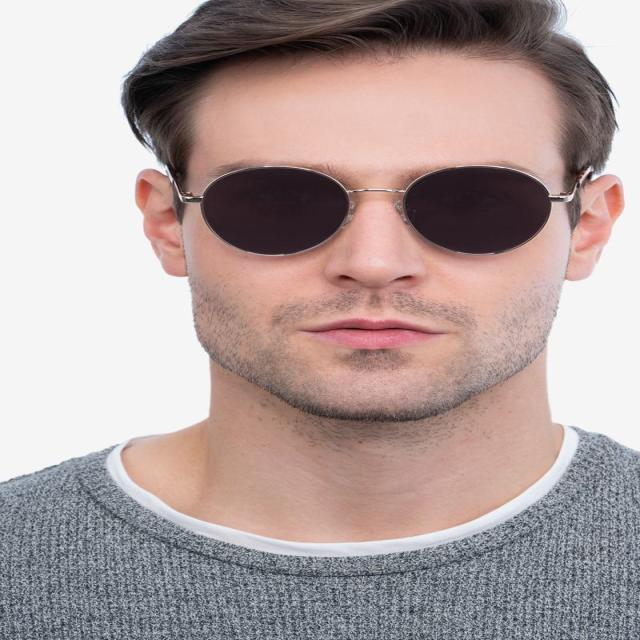2_gafas: (165, 162, 595, 258)
